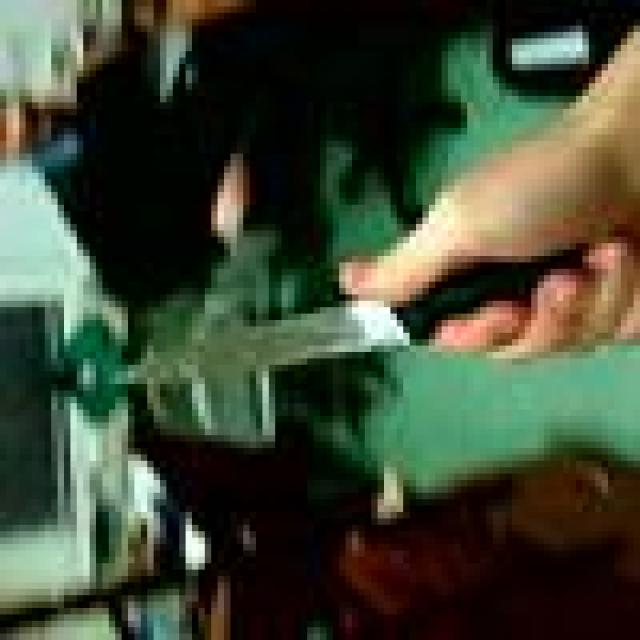knife: (129, 305, 419, 381)
